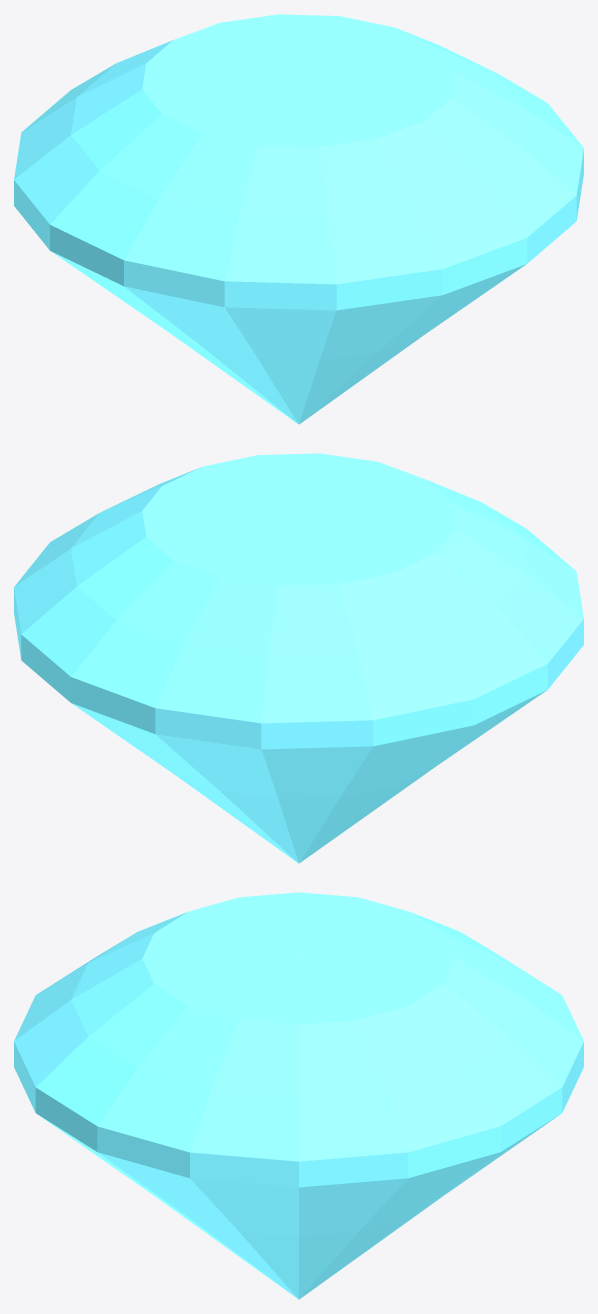
Rendered from zircon-jewel.glb.
3 renders of one model, top to bottom at view 1: azimuth 30°, elevation 25°; view 2: azimuth 150°, elevation 25°; view 3: azimuth 270°, elevation 25°, orthographic.
Parts seen in each view (by area): view 1: Zircon; view 2: Zircon; view 3: Zircon.
Part boxes in pixels (bbox=[...]): Zircon: bbox=[14, 14, 583, 424]; Zircon: bbox=[14, 453, 583, 863]; Zircon: bbox=[14, 892, 583, 1299].
Bounding box in the file's own units: 2 × 1.32 × 2.
